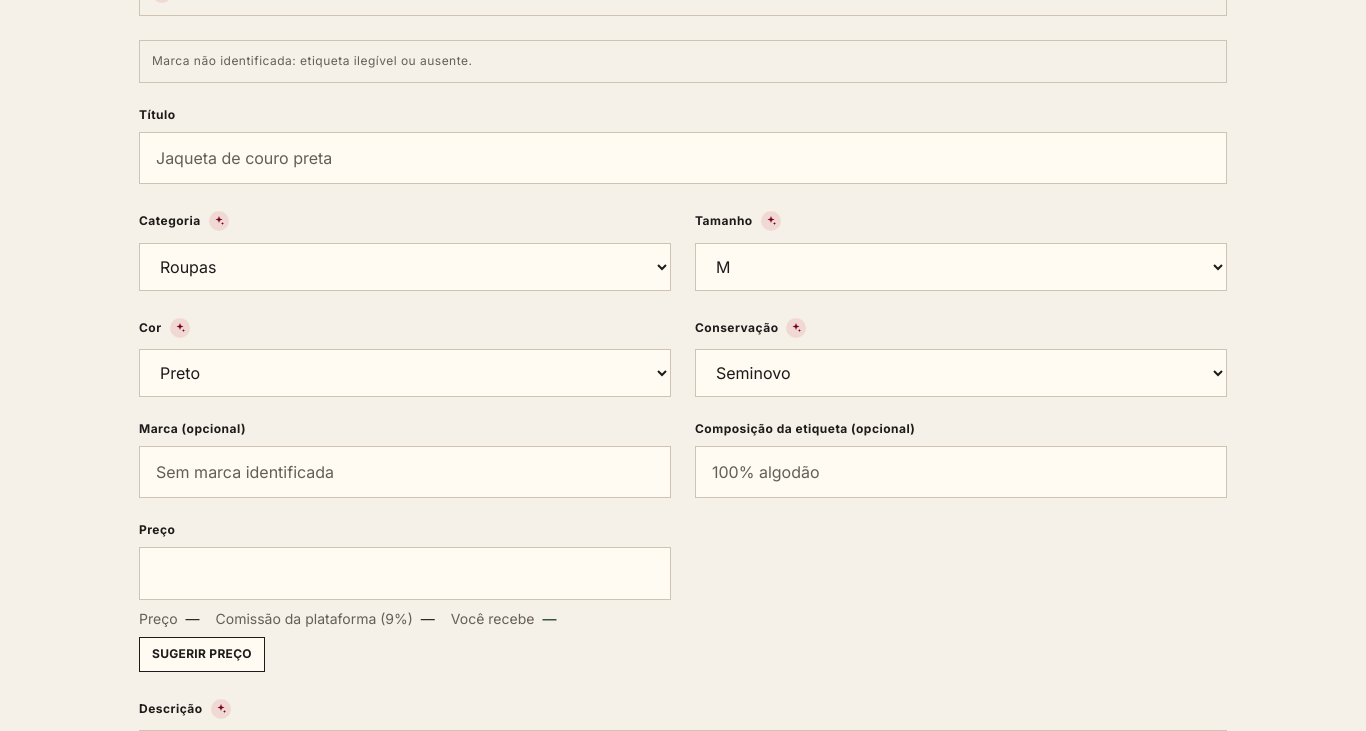
Scenario: SellerProductForm › digitar em campo sugerido apaga a etiqueta daquele campo
The width and height of the screenshot is (1366, 731).
Earlier steps of the test are not shown.
(page scrolled)
Expected: the number of pictures named "Sugerido pela IA" is 5, [209, 212, 229, 232]; [761, 212, 781, 232]; [170, 318, 190, 338]; [786, 318, 806, 338]; [211, 699, 231, 719]
Select "Verde" in the dropdown labelled "Cor" at (405, 373), box [139, 349, 671, 397]
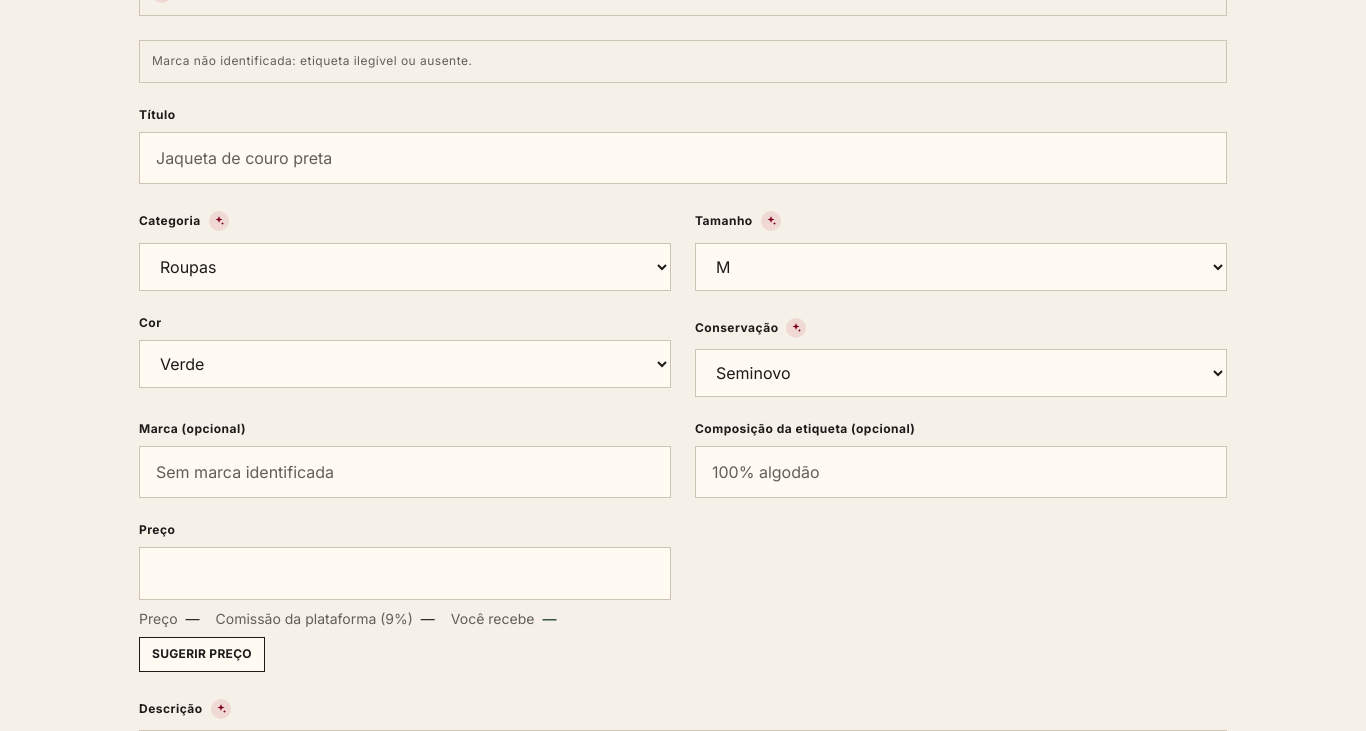
Expected: the number of pictures named "Sugerido pela IA" is 4, [209, 212, 229, 232]; [761, 212, 781, 232]; [786, 318, 806, 338]; [211, 699, 231, 719]
